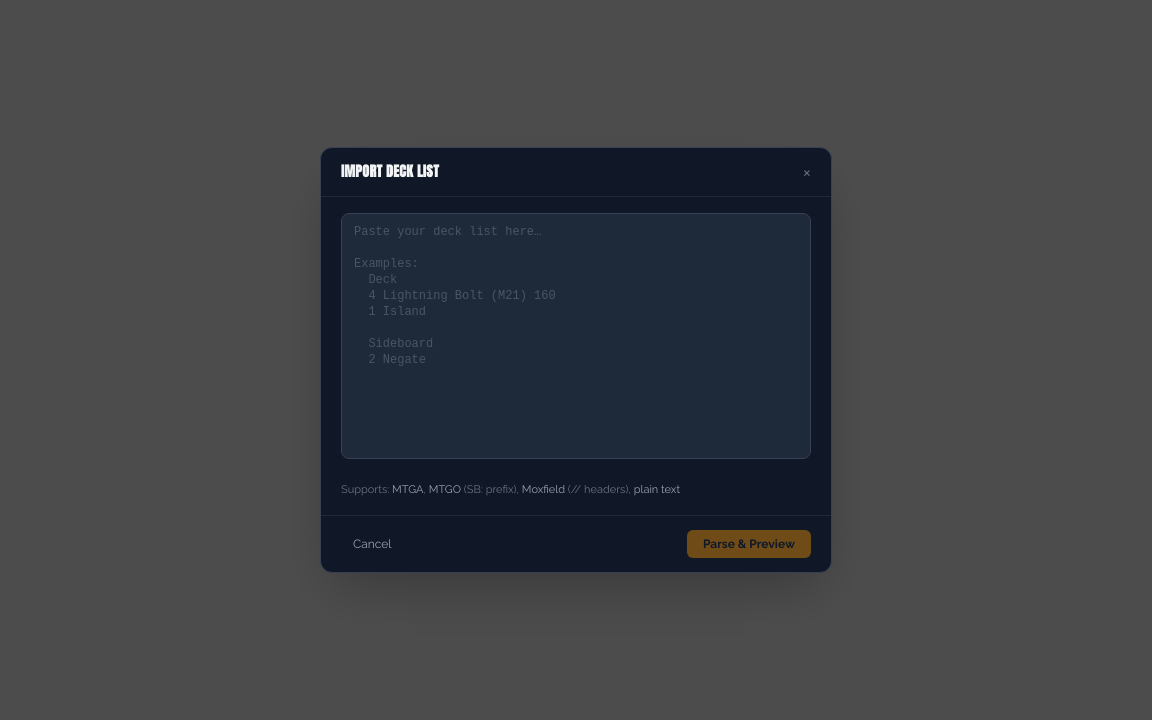
Scenario: ImportDeckModal — fuzzy matches are shown, never silent › prefers an exact match over a fuzzy one
Click the text box: x=576, y=336 [341,213,811,459]
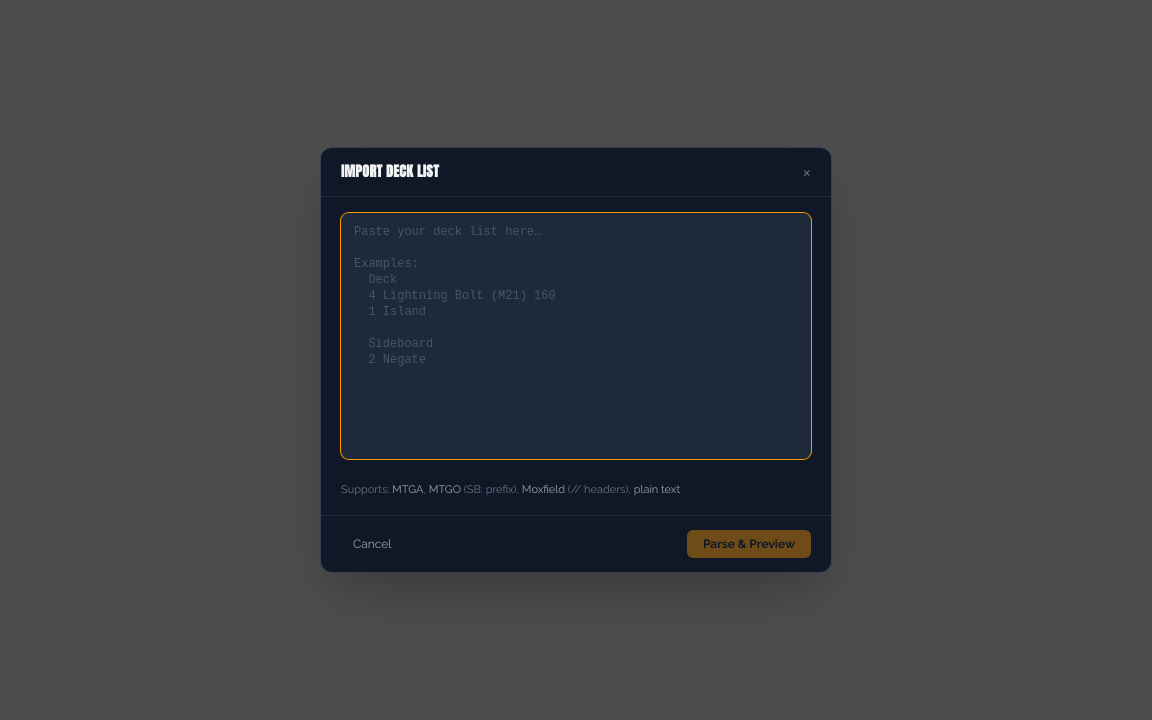
Type keys "1 Llanowar Elves"
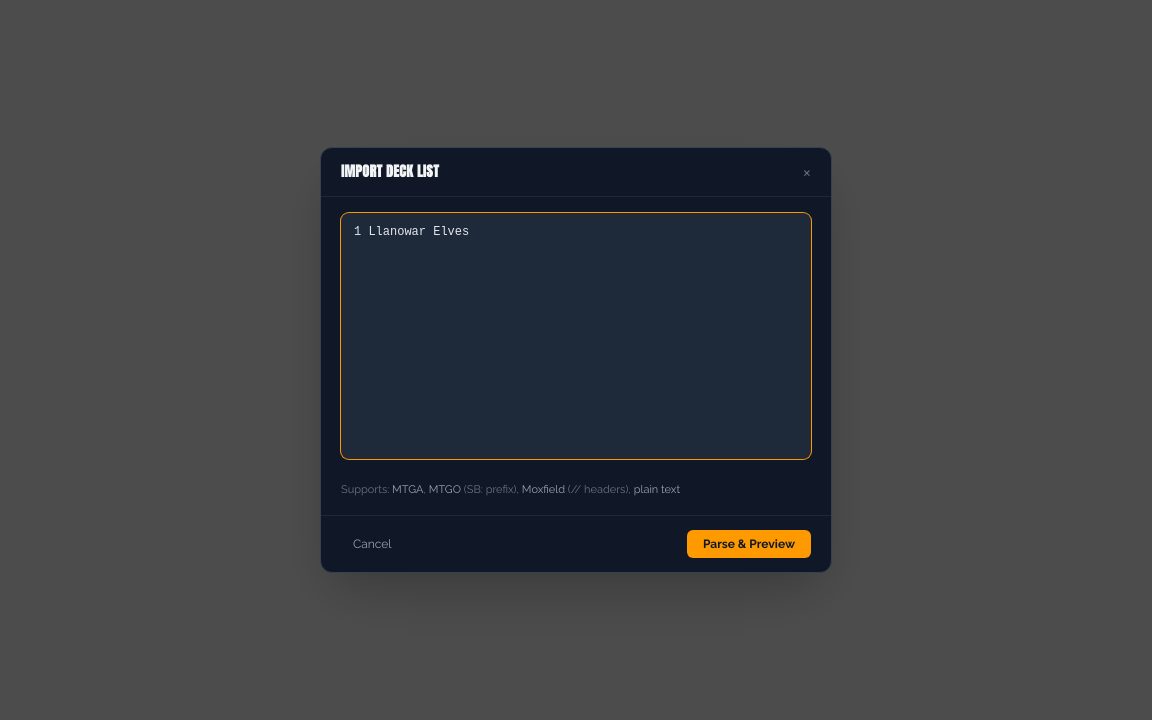
Click the button "Parse & Preview": x=749, y=544 [687,530,811,558]
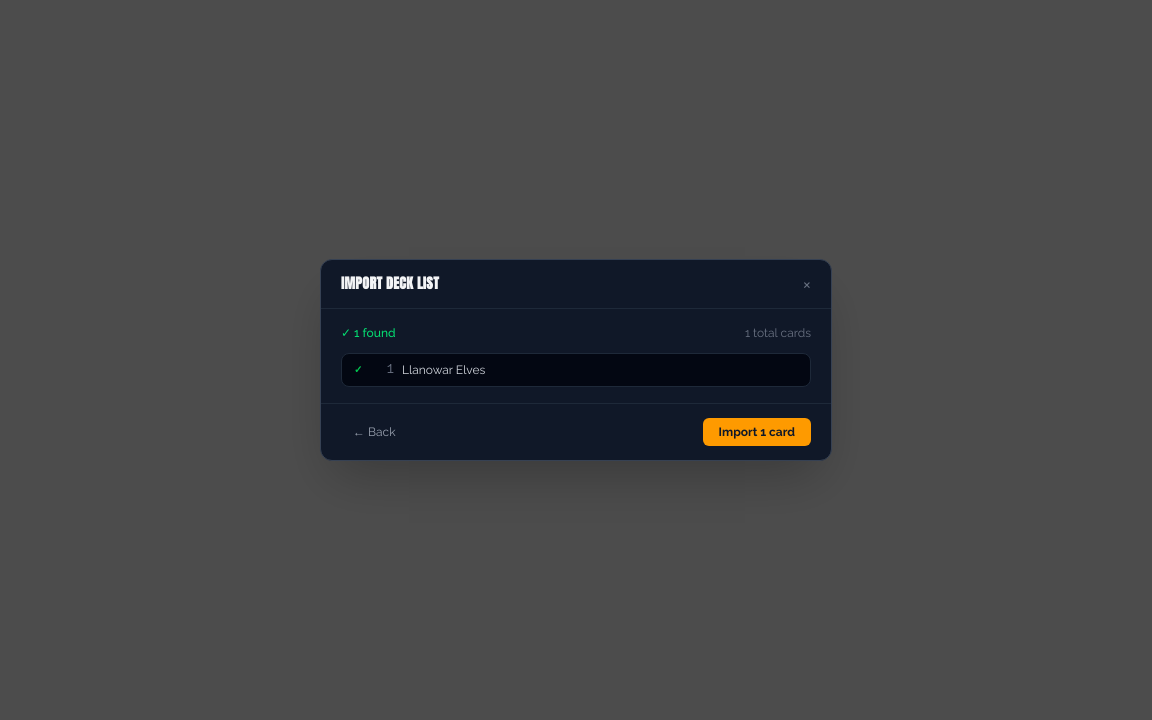
Result: the text "✓ 1 found" is shown at [341,325,396,341]
